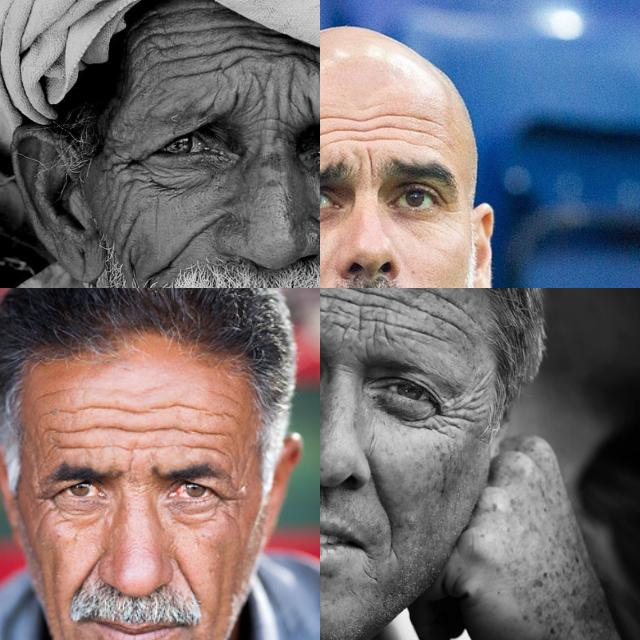crows_feet: (109, 146, 153, 184), (436, 396, 466, 436), (27, 482, 55, 520), (214, 484, 242, 520), (443, 193, 459, 227)
forehead: (194, 25, 253, 89), (366, 110, 440, 148), (138, 27, 182, 83), (138, 402, 184, 451), (90, 398, 130, 454), (188, 406, 230, 456), (40, 404, 78, 454), (274, 40, 320, 79), (381, 317, 432, 349), (320, 110, 354, 152), (337, 306, 373, 342), (414, 300, 452, 328), (361, 288, 406, 306), (433, 288, 465, 311), (320, 288, 352, 300)
frown_line: (251, 99, 291, 150), (362, 156, 376, 177)
gummy_smile: (160, 210, 230, 256), (366, 475, 398, 531), (73, 556, 99, 600), (176, 558, 200, 600), (384, 536, 402, 564)
masseter: (102, 196, 140, 250)
sad_smile: (362, 550, 378, 586)
